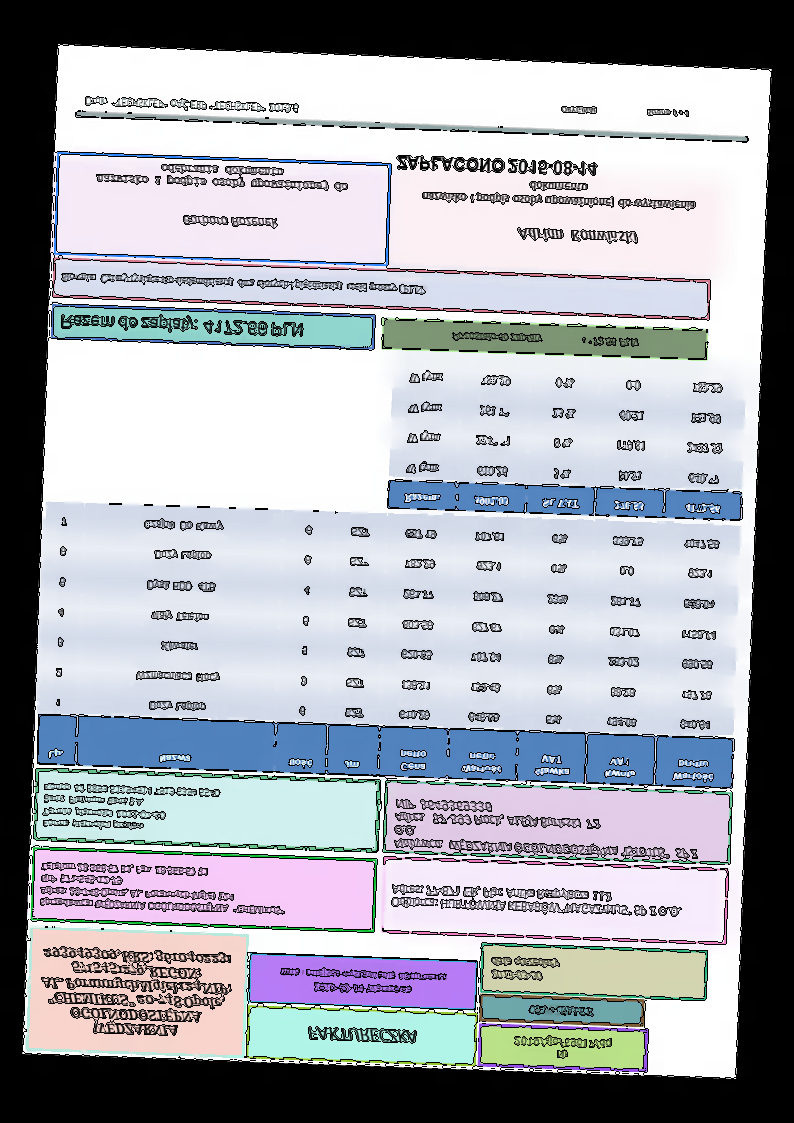Table: (34, 498, 743, 790), (385, 356, 749, 523)
TextBox: (390, 796, 702, 863), (37, 943, 237, 1040), (36, 857, 289, 918), (388, 880, 685, 921), (59, 268, 428, 298), (419, 176, 701, 215), (41, 781, 220, 837), (95, 159, 351, 197), (59, 310, 306, 342), (276, 964, 449, 1001), (393, 152, 597, 181), (81, 93, 303, 118), (448, 327, 640, 351), (512, 1032, 615, 1063), (305, 1024, 419, 1048), (514, 225, 639, 246), (559, 103, 692, 122), (488, 952, 562, 986), (179, 212, 282, 232), (525, 1003, 597, 1021)
